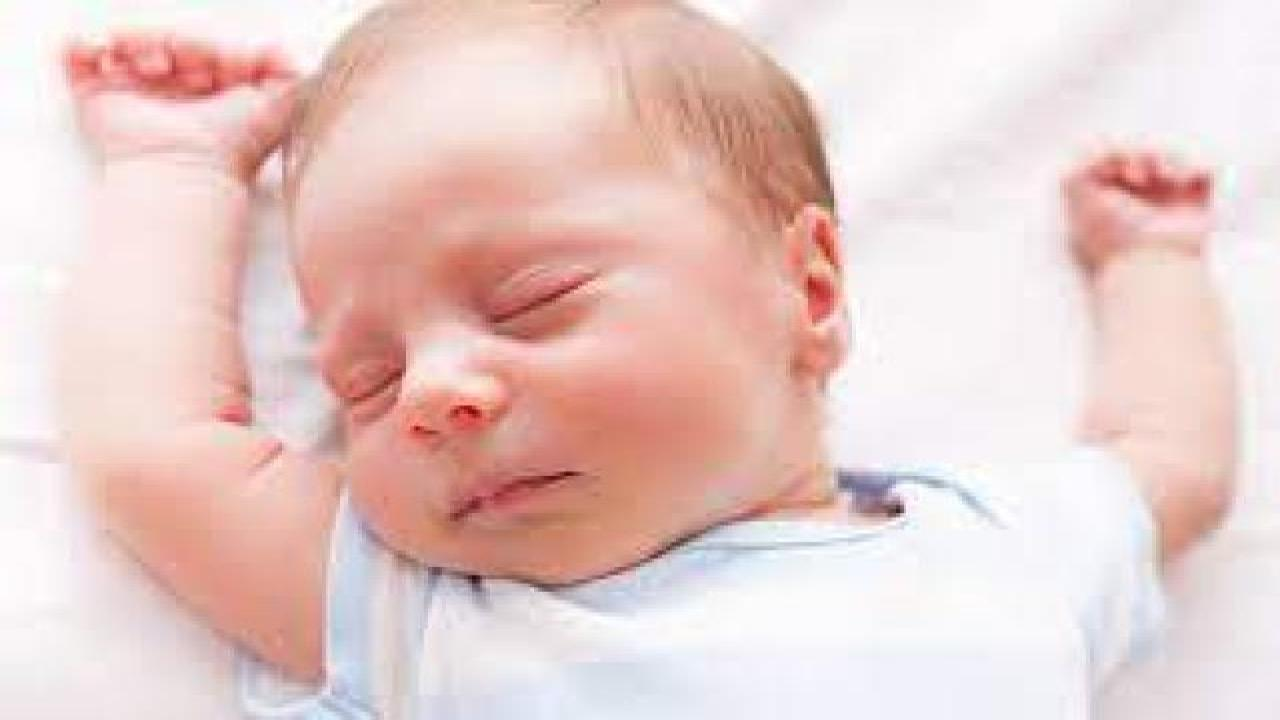hand: (52, 30, 298, 162), (1054, 149, 1222, 254)
